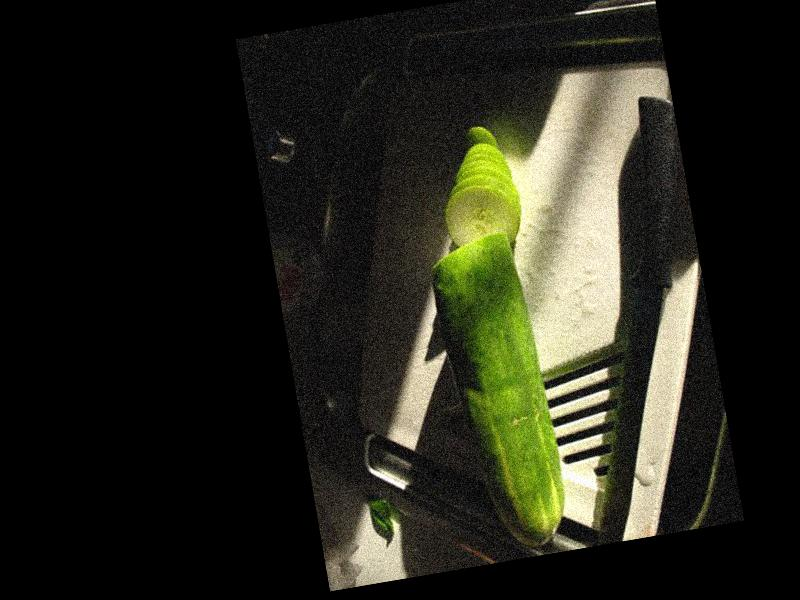Cucumber: (426, 227, 573, 556)
